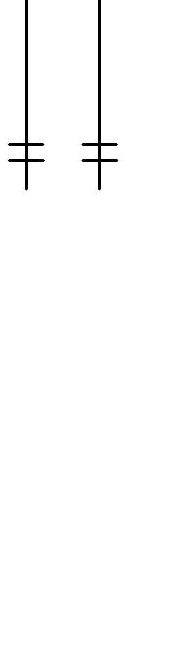115_buffer: (8, 143, 45, 162), (81, 143, 118, 162)
